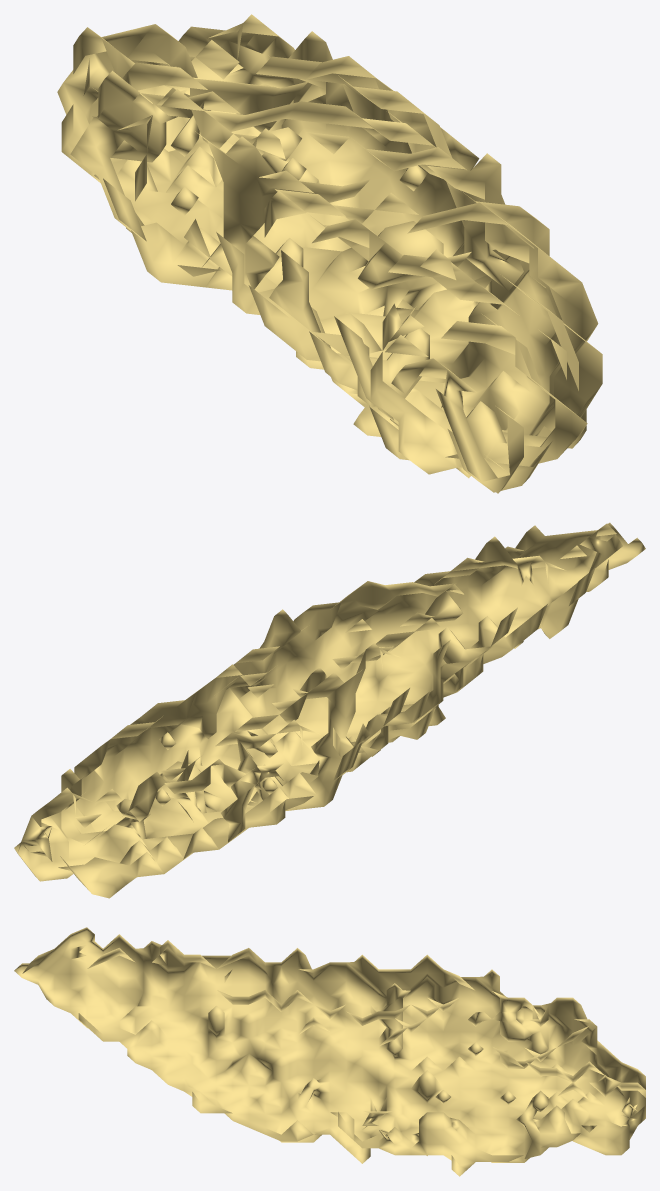
File: osteocyte_82.glb
3 renders of one model, top to bottom at view 1: azimuth 30°, elevation 25°; view 2: azimuth 150°, elevation 25°; view 3: azimuth 270°, elevation 25°, orthographic. The views are drawn at different scales.
Visible parts, largest first — view 1: osteocyte_82; view 2: osteocyte_82; view 3: osteocyte_82.
Boxes of the visible parts, x1=… form: osteocyte_82: x1=57, y1=14, x2=602, y2=493; osteocyte_82: x1=14, y1=522, x2=645, y2=898; osteocyte_82: x1=14, y1=927, x2=645, y2=1176.
Bounding box in the file's own units: 8.18 × 5.78 × 18.78.
